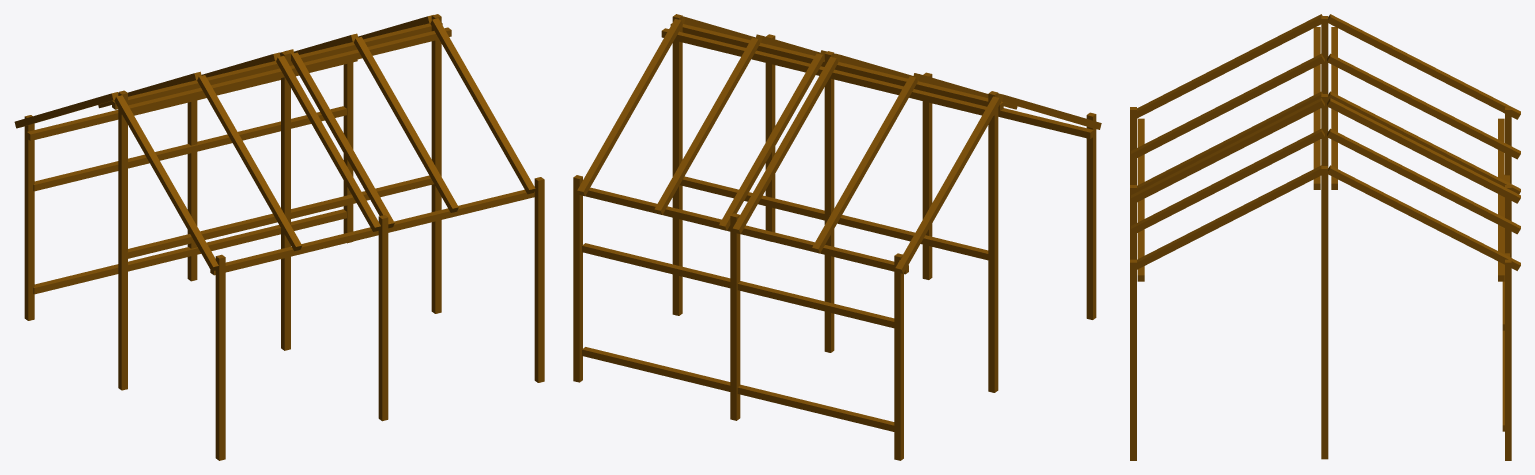
The model's file is casa construyendose.fbx.
3 views of the same model, side by side, from view 1: azimuth 30°, elevation 25°; view 2: azimuth 150°, elevation 25°; view 3: azimuth 270°, elevation 25° (orthographic). The views are drawn at different scales.
Parts seen in each view (by area): view 1: Cube.006, Cube.025, Cube.016, Cube.008, Cube.023, Cube.010, Cube.024, Cube.022, Cube.009, Cube, Cube.002, Cube.001 (+12 smaller); view 2: Cube.024, Cube.025, Cube.008, Cube.022, Cube.007, Cube.023, Cube.010, Cube.009, Cube.016, Cube.005, Cube.001, Cube.018 (+12 smaller); view 3: Cube.010, Cube.012, Cube.027, Cube.020, Cube.026, Cube.014, Cube.018, Cube.021, Cube.017, Cube.011, Cube.015, Cube (+12 smaller).
Boxes of the visible parts, <box> form: Cube.006: <box>210,189,534,275</box>; Cube.025: <box>33,209,346,294</box>; Cube.016: <box>121,27,451,114</box>; Cube.008: <box>118,90,127,390</box>; Cube.023: <box>126,175,433,258</box>; Cube.010: <box>431,14,441,313</box>; Cube.024: <box>33,106,346,191</box>; Cube.022: <box>112,23,442,109</box>; Cube.009: <box>281,51,290,350</box>; Cube: <box>534,177,544,382</box>; Cube.002: <box>378,215,388,421</box>; Cube.001: <box>215,254,225,460</box>; Cube.024: <box>582,243,894,328</box>; Cube.025: <box>582,347,894,431</box>; Cube.008: <box>988,91,998,392</box>; Cube.022: <box>661,28,994,115</box>; Cube.007: <box>585,187,908,274</box>; Cube.023: <box>680,176,989,260</box>; Cube.010: <box>672,14,682,315</box>; Cube.009: <box>824,51,834,352</box>; Cube.016: <box>670,23,1003,110</box>; Cube.005: <box>730,213,740,420</box>; Cube.001: <box>1086,112,1096,319</box>; Cube.018: <box>812,76,917,253</box>; Cube.010: <box>1321,166,1328,459</box>; Cube.012: <box>1131,53,1324,159</box>; Cube.027: <box>1131,128,1324,234</box>; Cube.020: <box>1327,98,1520,203</box>; Cube.026: <box>1327,128,1520,234</box>; Cube.014: <box>1131,98,1324,203</box>; Cube.018: <box>1327,53,1520,159</box>; Cube.021: <box>1328,165,1520,270</box>; Cube.017: <box>1328,14,1520,119</box>; Cube.011: <box>1137,14,1322,118</box>; Cube.015: <box>1137,165,1321,269</box>; Cube: <box>1130,259,1136,460</box>.
Size of the model in its own units: 343 by 293 by 357.
